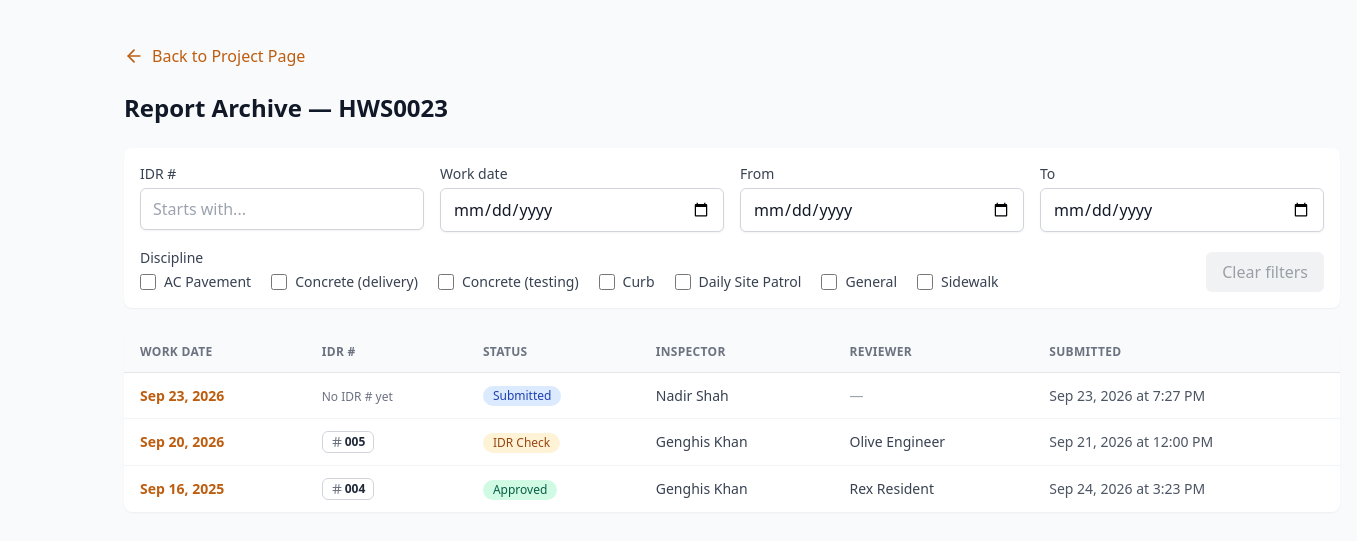
ReportArchivePage — filters › each ticked discipline is its own discipline parameter
Expected: the button "Sep 23, 2026" is shown, [140,386,224,406]
Click the checkbox labelled "Sidewalk". click: (925, 282)
box: [917,274,933,290]
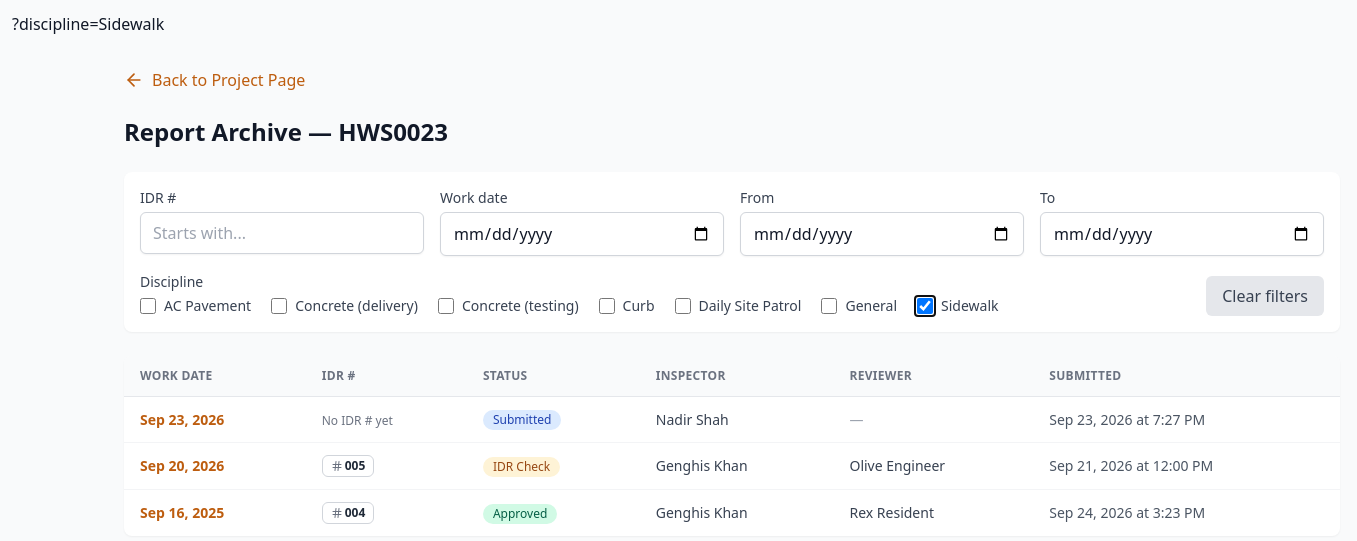
Click the checkbox labelled "AC Pavement". click: (148, 306)
box: [140,298,156,314]
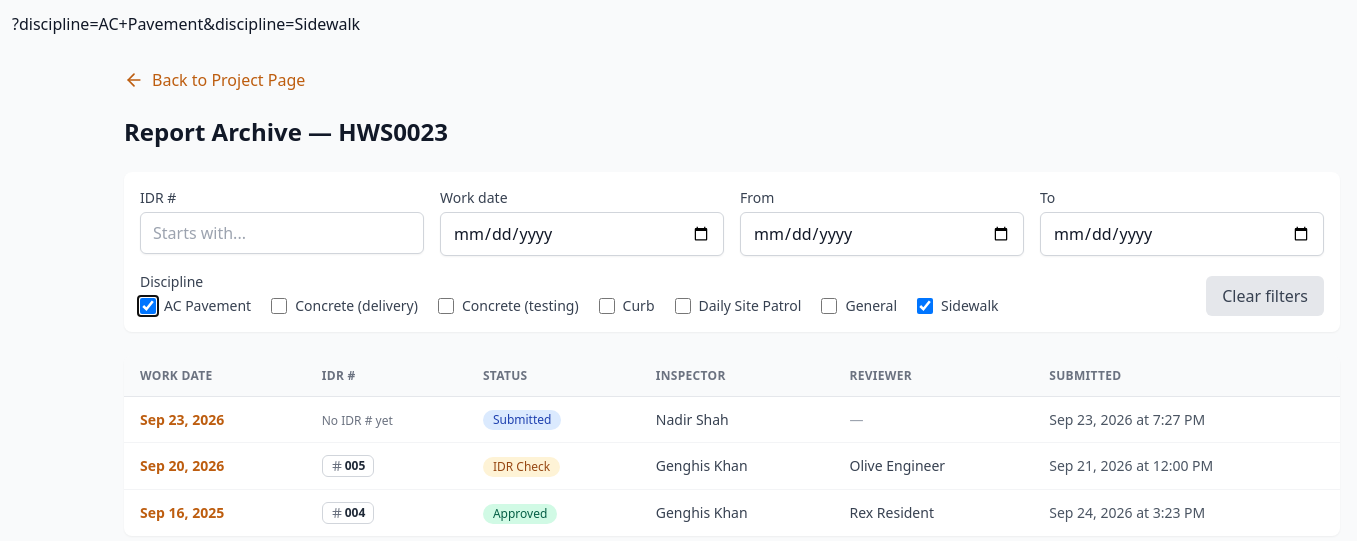
Result: the text with test id "archive-url" reads "?discipline=AC+Pavement&discipline=Sidewalk" at [12,13,360,35]
